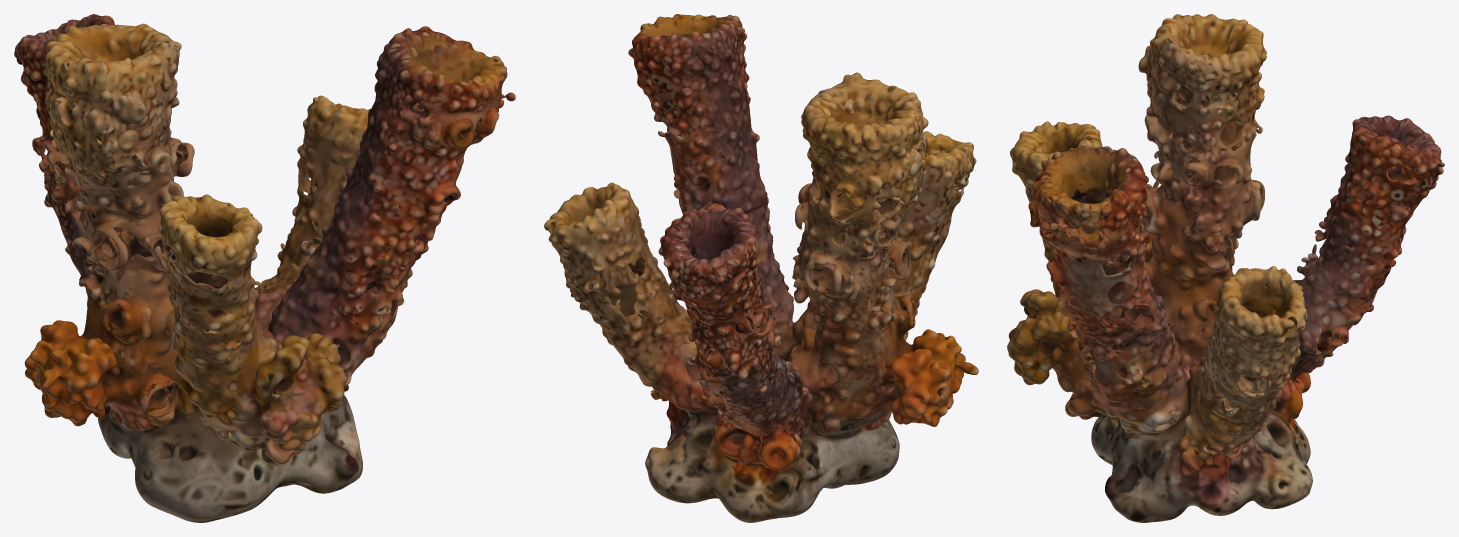
Rendered from coral_tube.glb.
3 renders of one model, left to right at view 1: azimuth 30°, elevation 25°; view 2: azimuth 150°, elevation 25°; view 3: azimuth 270°, elevation 25°, orthographic. The views are drawn at different scales.
Parts seen in each view (by area): view 1: tripo_node_6993f0d8-25db-441e-af1c-bd5ad2227b06; view 2: tripo_node_6993f0d8-25db-441e-af1c-bd5ad2227b06; view 3: tripo_node_6993f0d8-25db-441e-af1c-bd5ad2227b06.
Boxes of the visible parts, box(x1,y1,x2,y2) form: tripo_node_6993f0d8-25db-441e-af1c-bd5ad2227b06: box(14, 14, 515, 522); tripo_node_6993f0d8-25db-441e-af1c-bd5ad2227b06: box(544, 14, 978, 522); tripo_node_6993f0d8-25db-441e-af1c-bd5ad2227b06: box(1007, 14, 1444, 522).
Bounding box in the file's own units: 0.9256 × 1 × 0.9516.
1 material, 1 textured.
